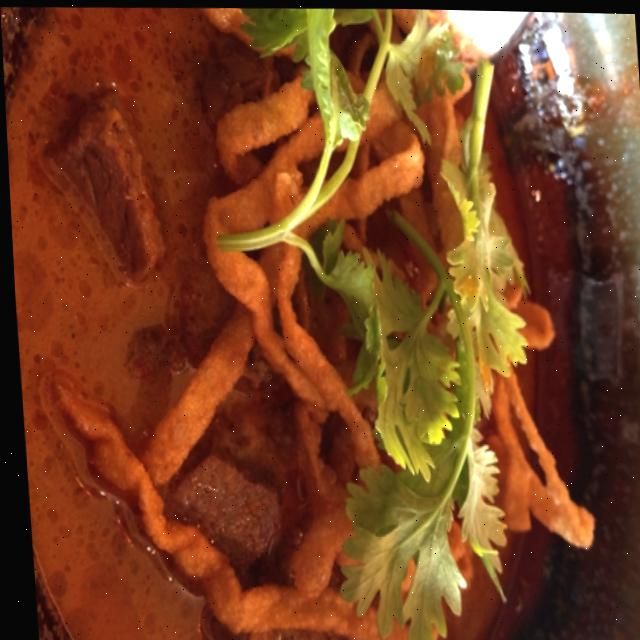面条主食: (25, 0, 640, 637)
